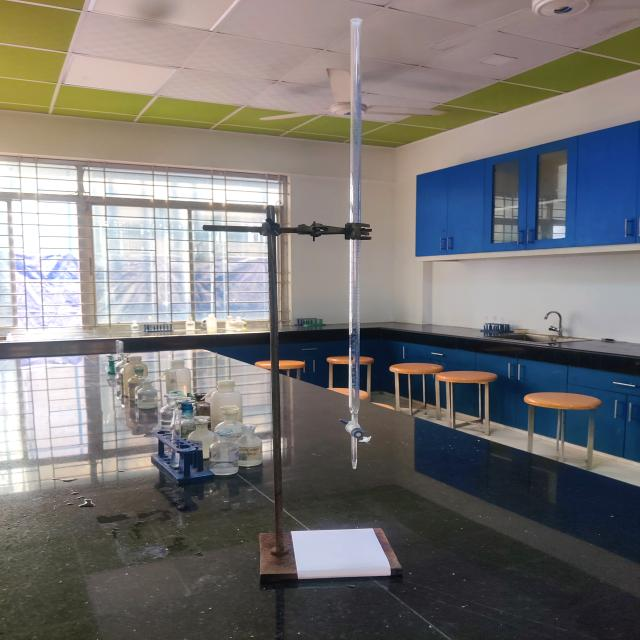Burette_Stands: (173, 195, 415, 596)
